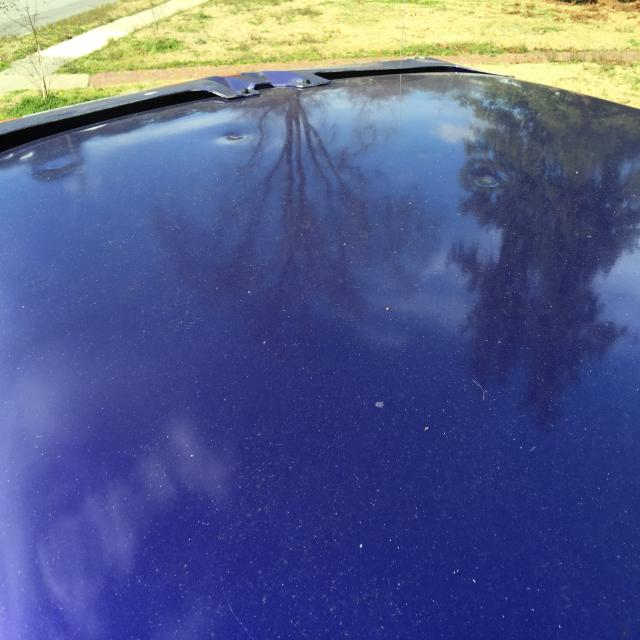dent: (211, 122, 282, 150)
